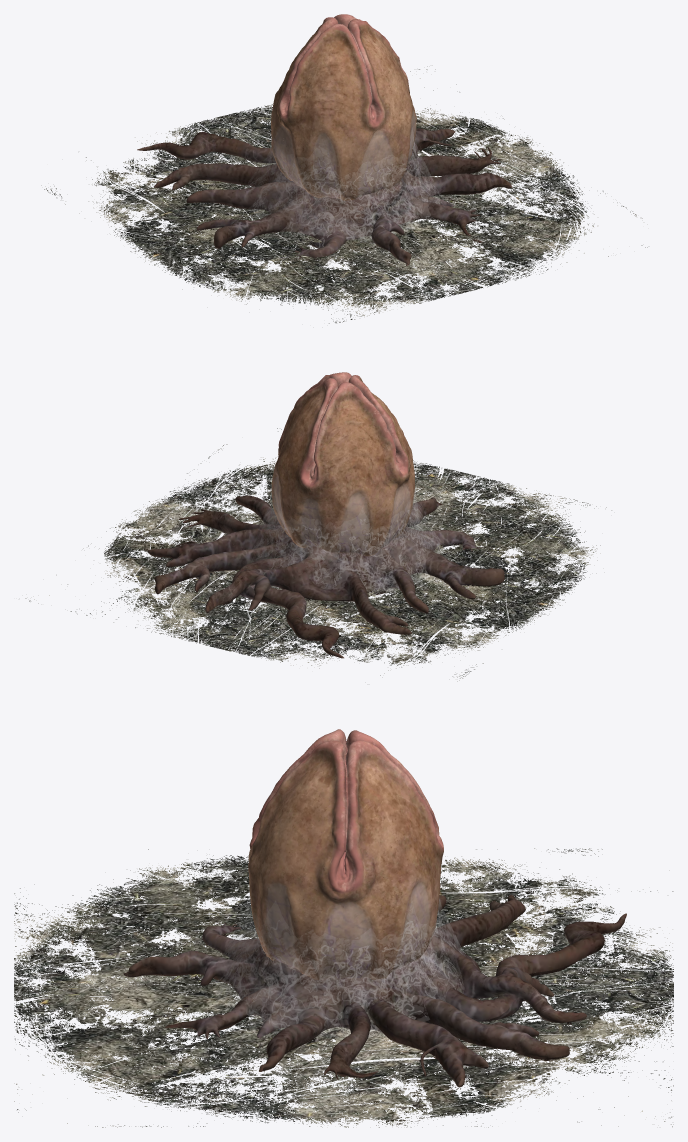
File: alien1.glb
3 renders of one model, top to bottom at view 1: azimuth 30°, elevation 25°; view 2: azimuth 150°, elevation 25°; view 3: azimuth 270°, elevation 25°, orthographic. The views are drawn at different scales.
Parts seen in each view (by area): view 1: Group43410, Group35463, Group64277, Group13752, Group57259, Group44234, Group44292; view 2: Group43410, Group35463, Group44234, Group12847, Group64277, Group57259, Group44292; view 3: Group43410, Group35463, Group12847, Group13752, Group57259, Group44292, Group64277, Group59158, Group44234.
Boxes of the visible parts, box(x1,y1,x2,y2) form: Group43410: box(41, 65, 647, 323); Group35463: box(137, 128, 512, 263); Group64277: box(280, 24, 377, 200); Group13752: box(347, 18, 416, 193); Group57259: box(246, 146, 443, 247); Group44234: box(271, 17, 338, 181); Group44292: box(137, 132, 511, 268); Group43410: box(25, 428, 611, 681); Group35463: box(147, 495, 504, 658); Group44234: box(308, 382, 404, 556); Group12847: box(271, 378, 338, 547); Group64277: box(348, 375, 414, 542); Group57259: box(253, 495, 443, 596); Group44292: box(149, 502, 503, 658); Group43410: box(14, 848, 673, 1127); Group35463: box(125, 895, 626, 1085); Group12847: box(339, 740, 443, 979); Group13752: box(248, 740, 346, 979); Group57259: box(207, 909, 460, 1041); Group44292: box(119, 918, 620, 1087); Group64277: box(248, 729, 347, 860); Group59158: box(222, 893, 464, 957); Group44234: box(346, 730, 443, 848).
Bounding box in the file's own units: 1.58 × 0.71 × 1.58.
5 materials, 5 textured.
